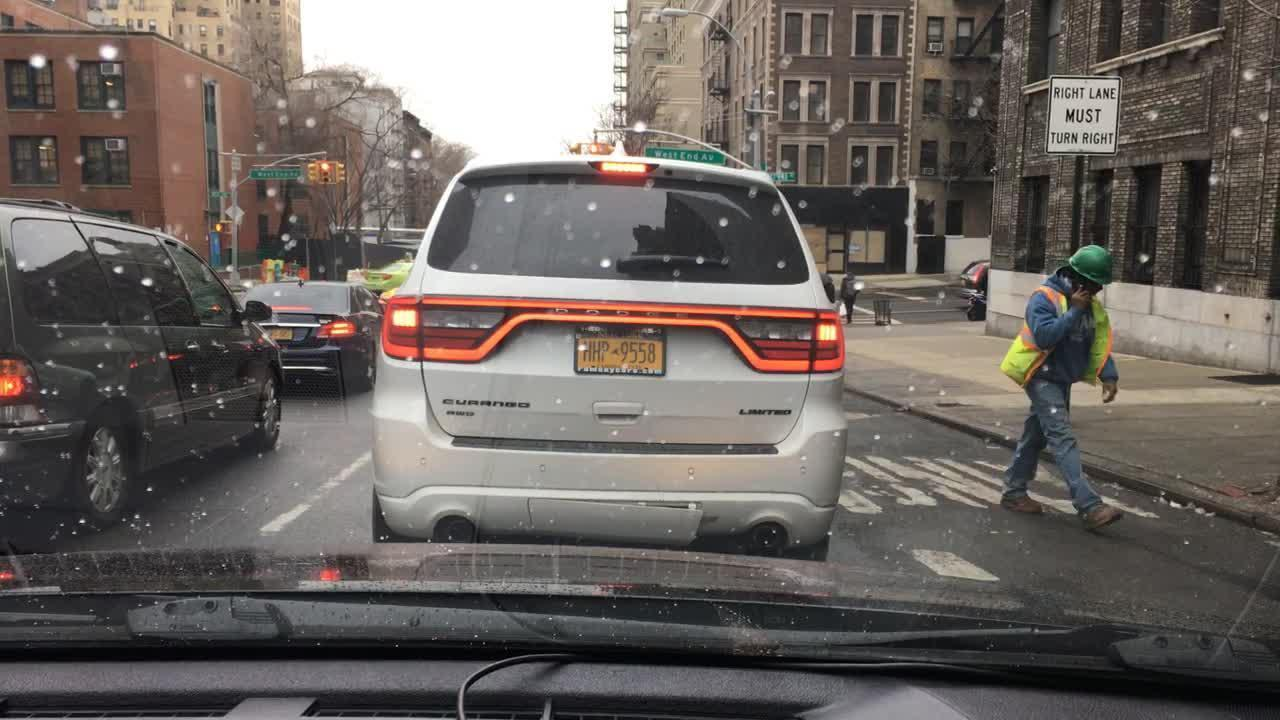dodge: (527, 278, 719, 341)
